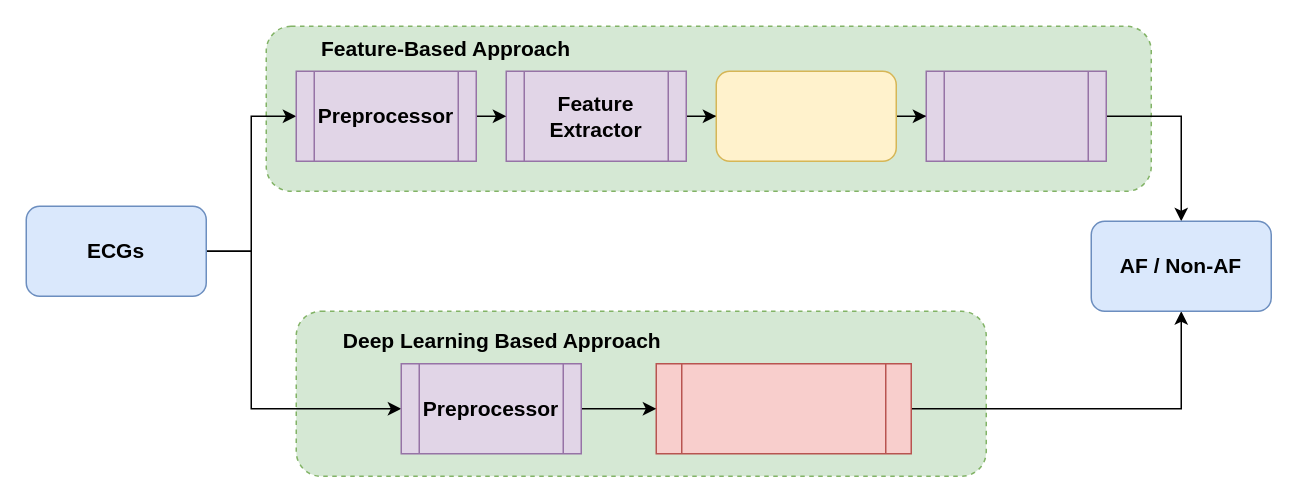
The diagram is 1298 pixels wide and 503 high, and some of its shapes have lost their labels. The shapes that lost their labels are listed below. From the top down, each one's box as (x1, y1, x2, y2) in pixels, then its label:
(715, 70, 896, 161): Features
(925, 70, 1106, 161): Classification Model
(655, 362, 911, 454): Deep Learning Model
